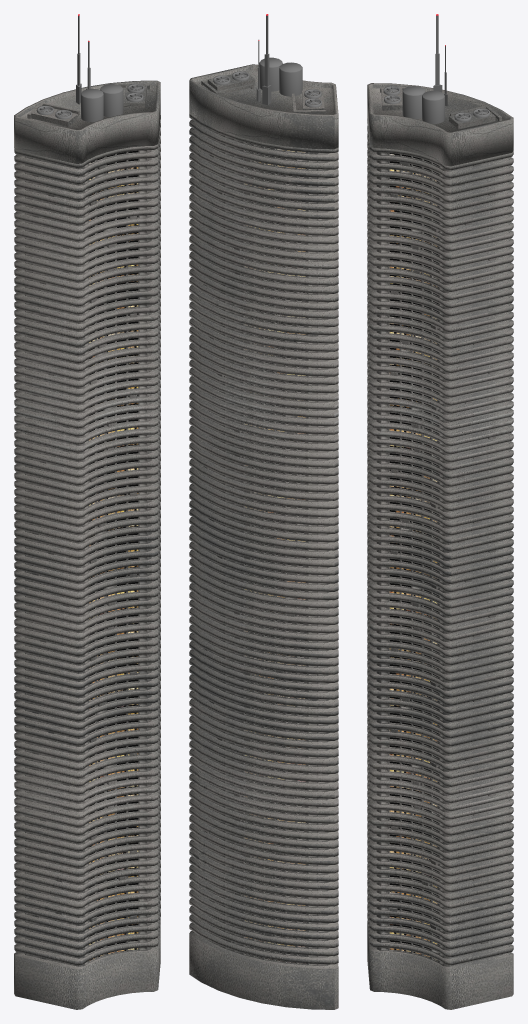
The model's file is quality-skyscraper-curved.glb.
3 renders of one model, left to right at view 1: azimuth 30°, elevation 25°; view 2: azimuth 150°, elevation 25°; view 3: azimuth 330°, elevation 25°, orthographic. The views are drawn at different scales.
Parts seen in each view (by area): view 1: quality-skyscraper-curved; view 2: quality-skyscraper-curved; view 3: quality-skyscraper-curved.
Boxes of the visible parts, bbox=[...] form: quality-skyscraper-curved: bbox=[14, 14, 160, 1009]; quality-skyscraper-curved: bbox=[189, 14, 338, 1009]; quality-skyscraper-curved: bbox=[367, 14, 513, 1009].
Size of the model in its own units: 75.19 by 476 by 39.5.
Materials: 4 (2 with a texture image).
